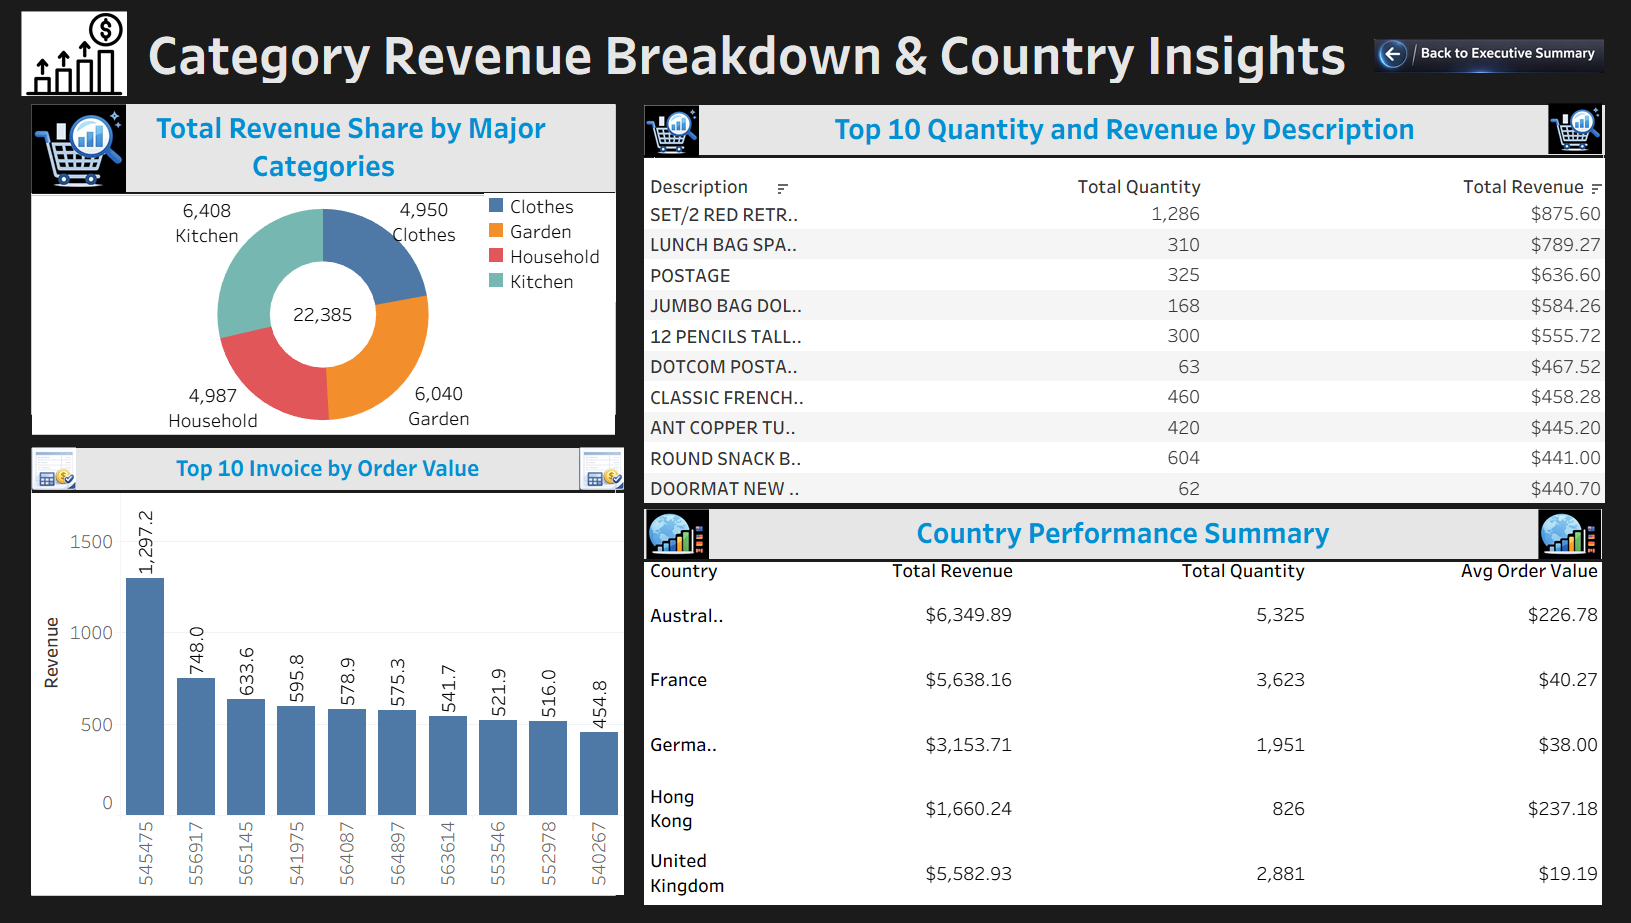

The dashboard page shown, as its layout file describes it:
{"tool":"tableau","page":{"name":"PRD&CA","canvas":[1600,900],"ordinal":2},"visuals":[{"type":"image","param":"Image/WhatsApp Image 2026-02-27 at 6.20.38 PM.jpeg","box":[2,1,106,116]},{"type":"dashboard-object","box":[1355,1,230,92]},{"type":"title","box":[8,8,1584,69]},{"type":"image","param":"Image/categories (2) 1.jpeg","box":[1529,93,61,51]},{"type":"image","param":"Image/categories (2) 1.jpeg","box":[12,94,115,89]},{"type":"worksheet","title":"TRMajor","mark":"Pie","rows":["Calculation_244601796280233992","Calculation_244601796280233992"],"box":[13,94,583,331]},{"type":"worksheet","title":"TQRD","mark":"Automatic","rows":["description"],"box":[625,95,961,398]},{"type":"image","param":"Image/categories (2) 1.jpeg","box":[625,95,61,52]},{"type":"legend","title":"TRMajor","param":"[federated.0kl09rs0qpjj0d17roevx0ib7bio].[none:major_category:nk]","box":[465,183,132,109]},{"type":"image","param":"Image/WhatsApp Image 2026-02-28 at 9.30.08 AM.jpeg","box":[12,437,141,43]},{"type":"image","param":"Image/WhatsApp Image 2026-02-28 at 9.30.08 AM 1.jpeg","box":[560,437,141,43]},{"type":"worksheet","title":"TInvoiceOrder","mark":"Bar","rows":["order_value"],"cols":["invoice_no"],"box":[12,438,593,447]},{"type":"worksheet","title":"CPS","mark":"Automatic","rows":["country"],"box":[625,499,958,396]},{"type":"image","param":"Image/categories (4).jpeg","box":[627,499,63,53]},{"type":"image","param":"Image/categories (4) 1.jpeg","box":[1519,499,63,51]}]}

Visuals, with their boxes in screenshot pixels (x1, y1, x2, y2), scaled from the page's 1600x900 canvas onto the 1631x923 screenshot:
image: (2,1,110,120)
dashboard-object: (1381,1,1616,95)
title: (8,8,1623,79)
image: (1559,95,1621,148)
image: (12,96,129,188)
"TRMajor" worksheet (Pie marks): (13,96,608,436)
"TQRD" worksheet: (637,97,1617,506)
image: (637,97,699,151)
"TRMajor" legend: (474,188,609,299)
image: (12,448,156,492)
image: (571,448,715,492)
"TInvoiceOrder" worksheet (Bar marks): (12,449,617,908)
"CPS" worksheet: (637,512,1614,918)
image: (639,512,703,566)
image: (1548,512,1613,564)
